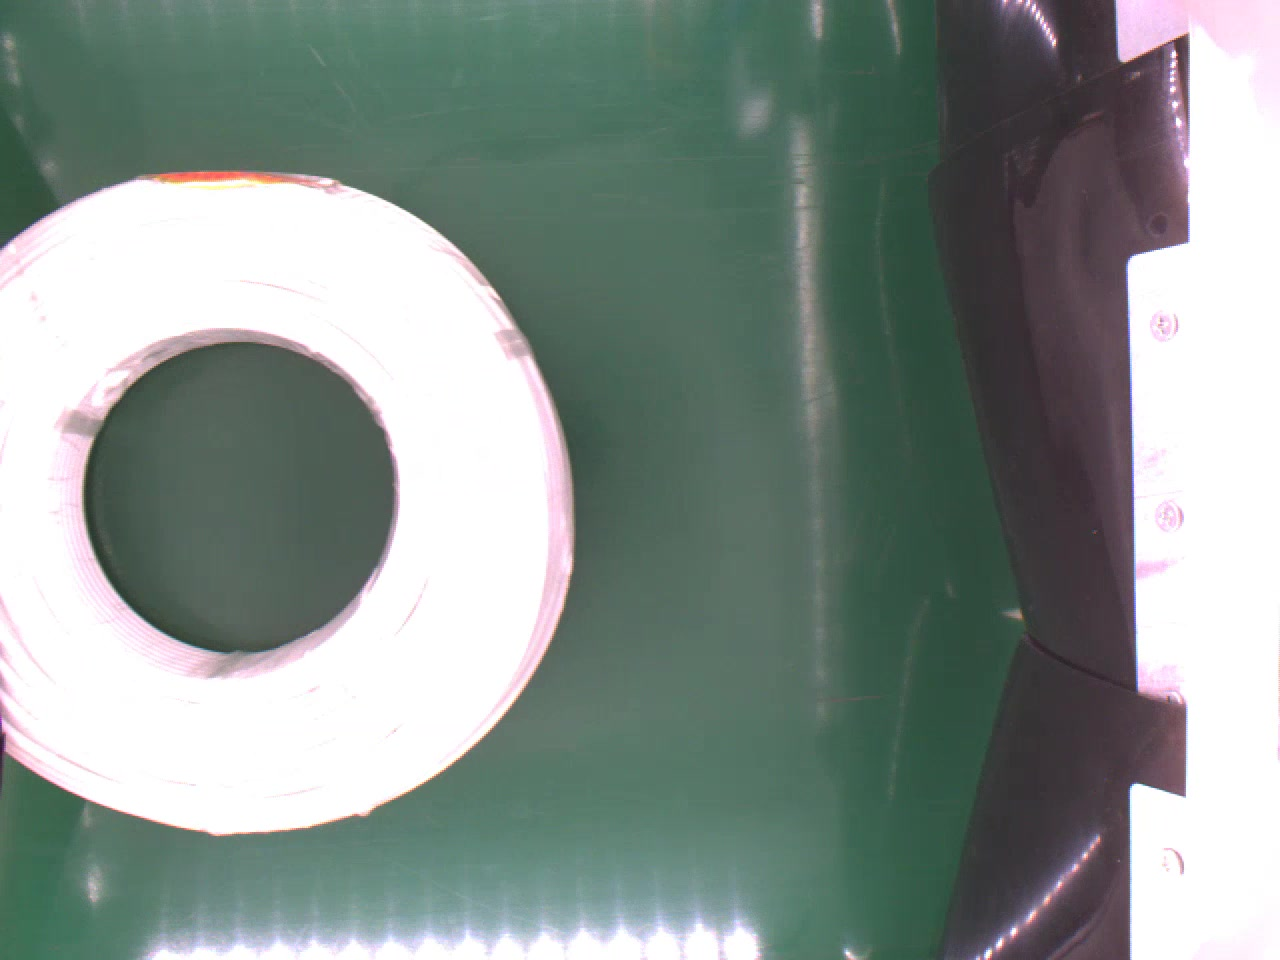white: (0, 162, 571, 827)
